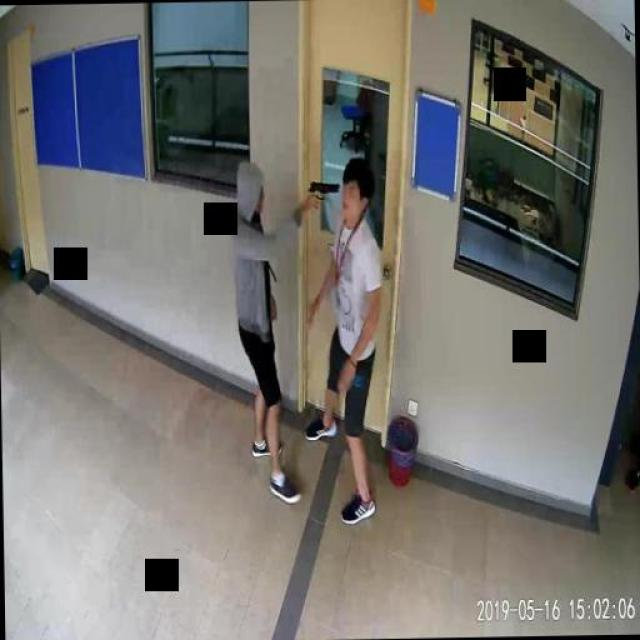gun: (309, 179, 339, 211)
